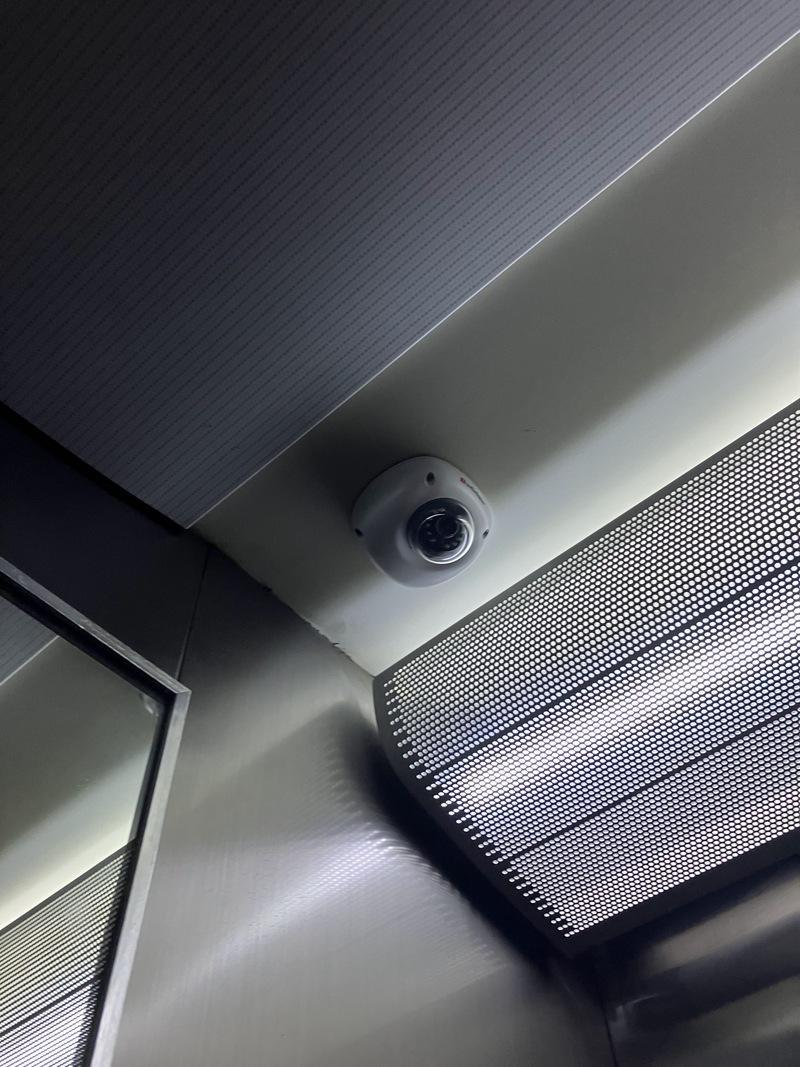dome: (326, 444, 501, 593)
